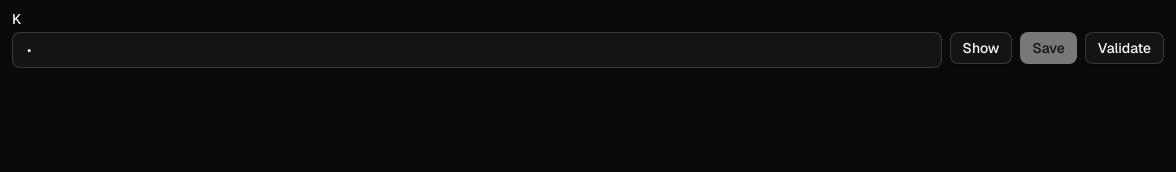
CredentialInput — validate › failed validation shows the error string
Expected: the password field labelled "K" is shown, [12,32,942,68]
Click the button "Validate" at x=1124, y=48, box [1085,32,1164,64]
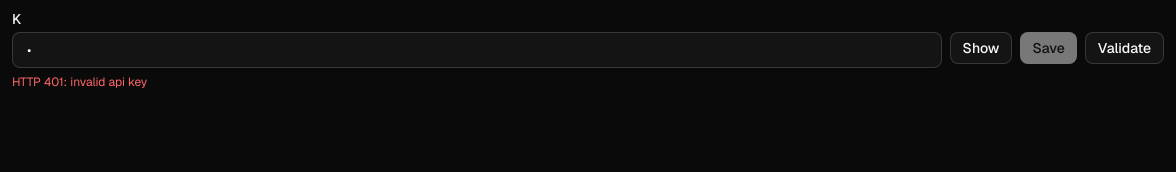
Result: the text "HTTP 401: invalid api key" is shown at [12,74,147,90]
